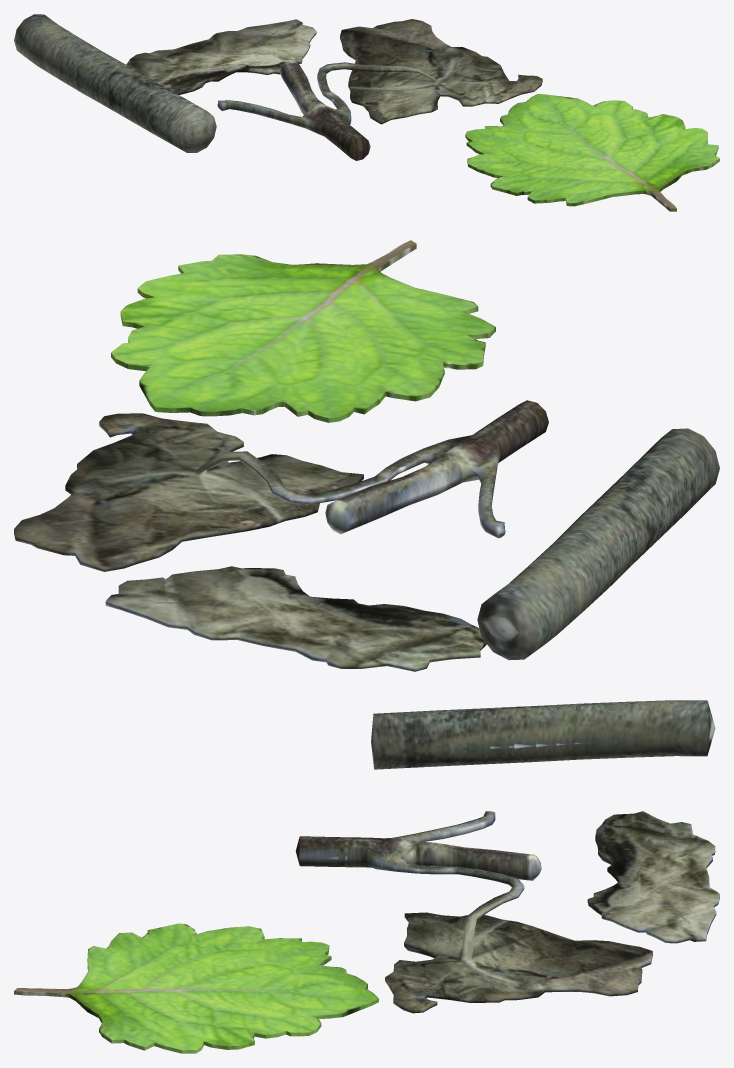
The model's file is guanghuoxiang.FBX.
3 renders of one model, top to bottom at view 1: azimuth 30°, elevation 25°; view 2: azimuth 150°, elevation 25°; view 3: azimuth 270°, elevation 25°, orthographic. The views are drawn at different scales.
Parts seen in each view (by area): view 1: Line002, Line003, Cylinder001, Line001; view 2: Line002, Line003, Line001, Cylinder001; view 3: Line002, Line003, Cylinder001, Line001.
Part boxes in pixels (x1,y1,x2,y2): Line002: (465, 94, 719, 211); Line003: (217, 19, 542, 160); Cylinder001: (14, 14, 216, 152); Line001: (126, 19, 316, 94); Line002: (111, 240, 495, 422); Line003: (14, 400, 548, 571); Line001: (105, 566, 486, 671); Cylinder001: (477, 428, 719, 660); Line002: (14, 923, 378, 1053); Line003: (295, 811, 652, 1013); Cylinder001: (371, 700, 715, 769); Line001: (587, 811, 719, 943).
Bounding box in the file's own units: 43.93 × 6.32 × 47.25.
1 material, 1 textured.
